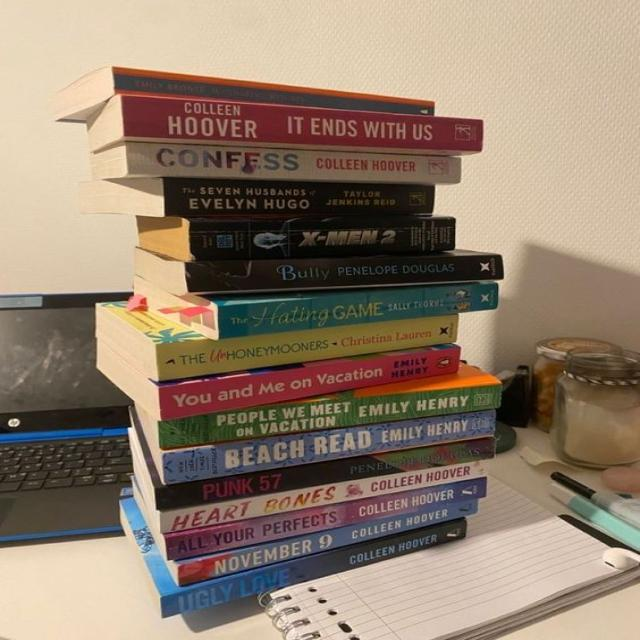book: (159, 519, 468, 618), (164, 477, 487, 561), (177, 499, 479, 588), (162, 409, 495, 485), (154, 437, 497, 510), (160, 460, 486, 532), (159, 382, 504, 449), (160, 349, 460, 420), (120, 94, 481, 151), (157, 316, 458, 381), (111, 66, 434, 116), (218, 285, 499, 340), (127, 143, 460, 183), (184, 255, 502, 294), (189, 220, 455, 262), (163, 179, 436, 216)
